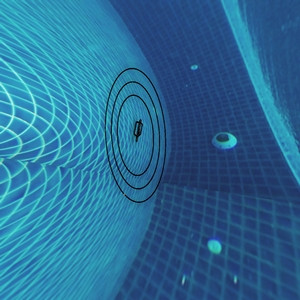submarine: (132, 124, 143, 137)
